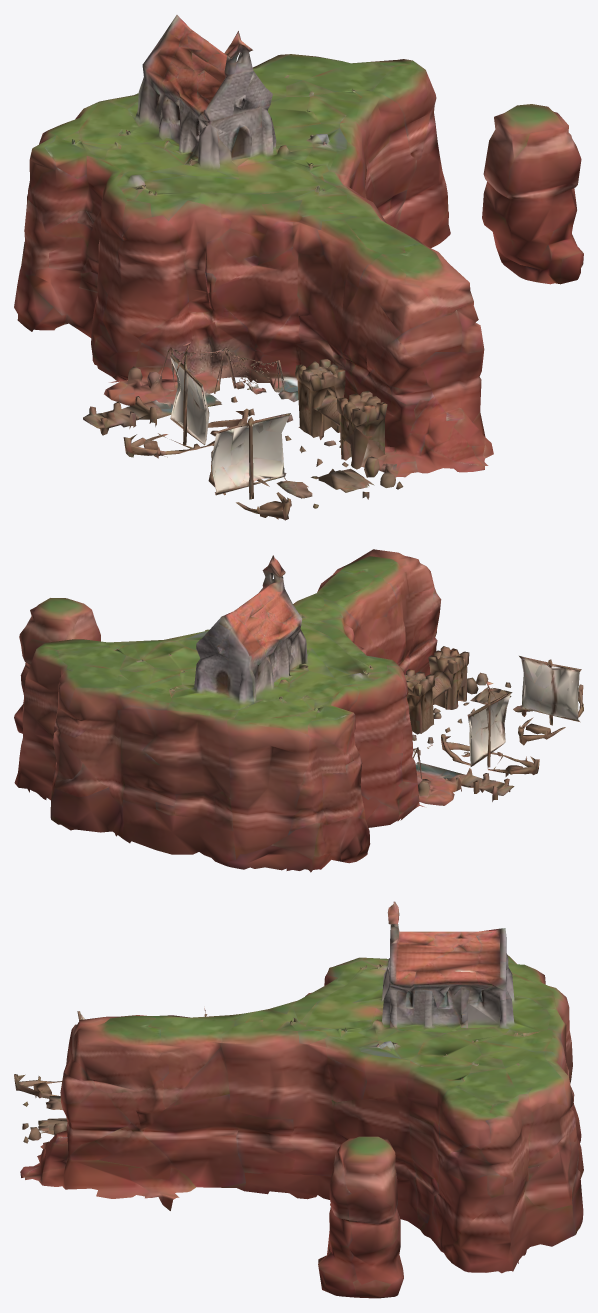
The model's file is m_heligoland.glb.
3 views of the same model, one above another, from view 1: azimuth 30°, elevation 25°; view 2: azimuth 150°, elevation 25°; view 3: azimuth 270°, elevation 25° (orthographic). The views are drawn at different scales.
Size of the model in its own units: 0.7888 by 0.4294 by 0.8133.
1 material, 1 textured.
